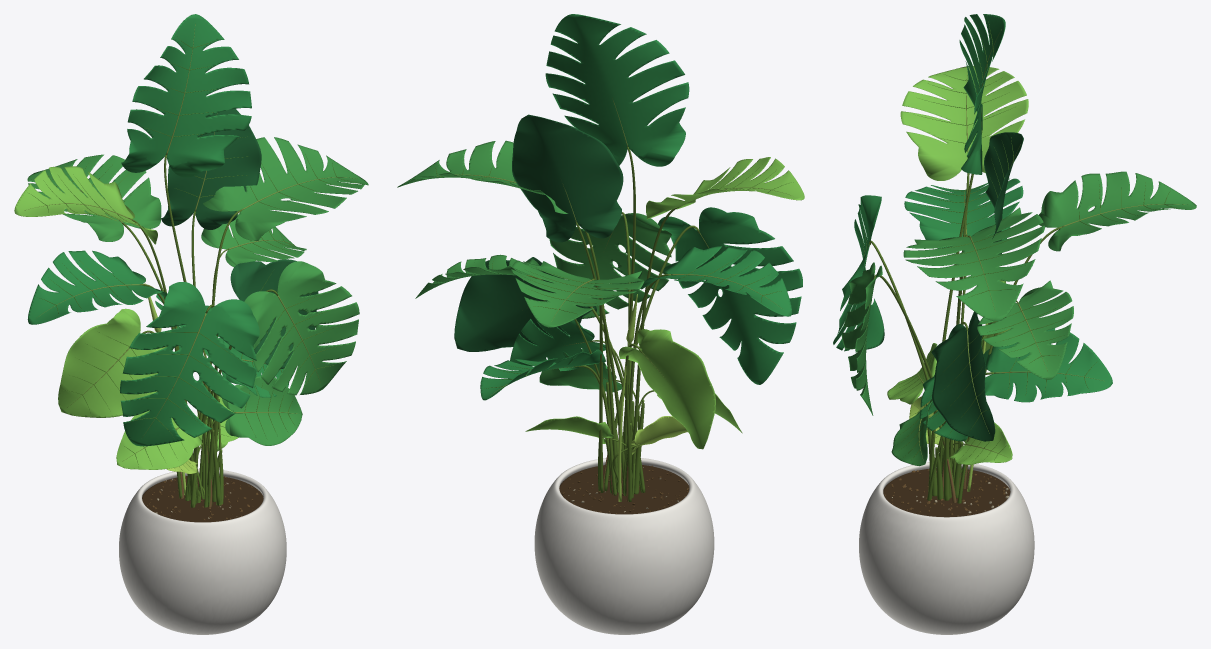
Rendered from monstera-plant.glb.
The picture shows the model from 3 angles, left to right: view 1: azimuth 30°, elevation 25°; view 2: azimuth 150°, elevation 25°; view 3: azimuth 270°, elevation 25°; orthographic projection. The views are drawn at different scales.
Visible parts, largest first — view 1: Leaf 01 | fenestrated mature, Leaf 04 | fenestrated mature, Pot | hollow rounded ceramic, Leaf 02 | fenestrated mature, Leaf 03 | young heart, Basal growth 00, Recessed soil surface, Leaf 01 | lateral vein, Leaf 01 | central midrib; view 2: Leaf 01 | fenestrated mature, Pot | hollow rounded ceramic, Leaf 03 | young heart, Leaf 04 | fenestrated mature, Leaf 02 | fenestrated mature, Basal growth 00, Recessed soil surface, Emerging rolled leaf, Leaf 01 | lateral vein, Leaf 01 | central midrib; view 3: Leaf 04 | fenestrated mature, Pot | hollow rounded ceramic, Leaf 01 | fenestrated mature, Leaf 02 | fenestrated mature, Leaf 03 | young heart, Basal growth 00, Recessed soil surface, Leaf 01 | lateral vein, Leaf 01 | central midrib.
Part boxes in pixels (left/top/right/bottom): Leaf 01 | fenestrated mature: left=27, top=14, right=289, bottom=446; Leaf 04 | fenestrated mature: left=27, top=137, right=368, bottom=445; Pot | hollow rounded ceramic: left=119, top=469, right=286, bottom=634; Leaf 02 | fenestrated mature: left=14, top=166, right=238, bottom=469; Leaf 03 | young heart: left=161, top=108, right=318, bottom=368; Basal growth 00: left=122, top=155, right=278, bottom=507; Recessed soil surface: left=142, top=476, right=263, bottom=522; Leaf 01 | lateral vein: left=29, top=37, right=362, bottom=470; Leaf 01 | central midrib: left=24, top=24, right=356, bottom=461; Leaf 01 | fenestrated mature: left=480, top=14, right=802, bottom=400; Pot | hollow rounded ceramic: left=534, top=458, right=714, bottom=634; Leaf 03 | young heart: left=454, top=114, right=623, bottom=351; Leaf 04 | fenestrated mature: left=397, top=140, right=671, bottom=392; Leaf 02 | fenestrated mature: left=525, top=157, right=804, bottom=449; Basal growth 00: left=526, top=147, right=699, bottom=501; Recessed soil surface: left=559, top=465, right=689, bottom=514; Emerging rolled leaf: left=618, top=294, right=687, bottom=501; Leaf 01 | lateral vein: left=435, top=164, right=793, bottom=388; Leaf 01 | central midrib: left=437, top=98, right=790, bottom=444; Leaf 04 | fenestrated mature: left=841, top=171, right=1196, bottom=466; Pot | hollow rounded ceramic: left=859, top=462, right=1034, bottom=634; Leaf 01 | fenestrated mature: left=833, top=14, right=1112, bottom=441; Leaf 02 | fenestrated mature: left=887, top=66, right=1028, bottom=464; Leaf 03 | young heart: left=931, top=132, right=1023, bottom=441; Basal growth 00: left=869, top=130, right=1062, bottom=503; Recessed soil surface: left=883, top=468, right=1010, bottom=517; Leaf 01 | lateral vein: left=861, top=21, right=1179, bottom=461; Leaf 01 | central midrib: left=865, top=29, right=1187, bottom=459.
Size of the model in its own units: 1.15 by 1.75 by 0.95.
